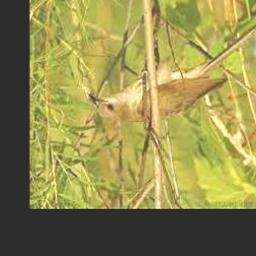Cuckoo: (89, 13, 256, 122)
